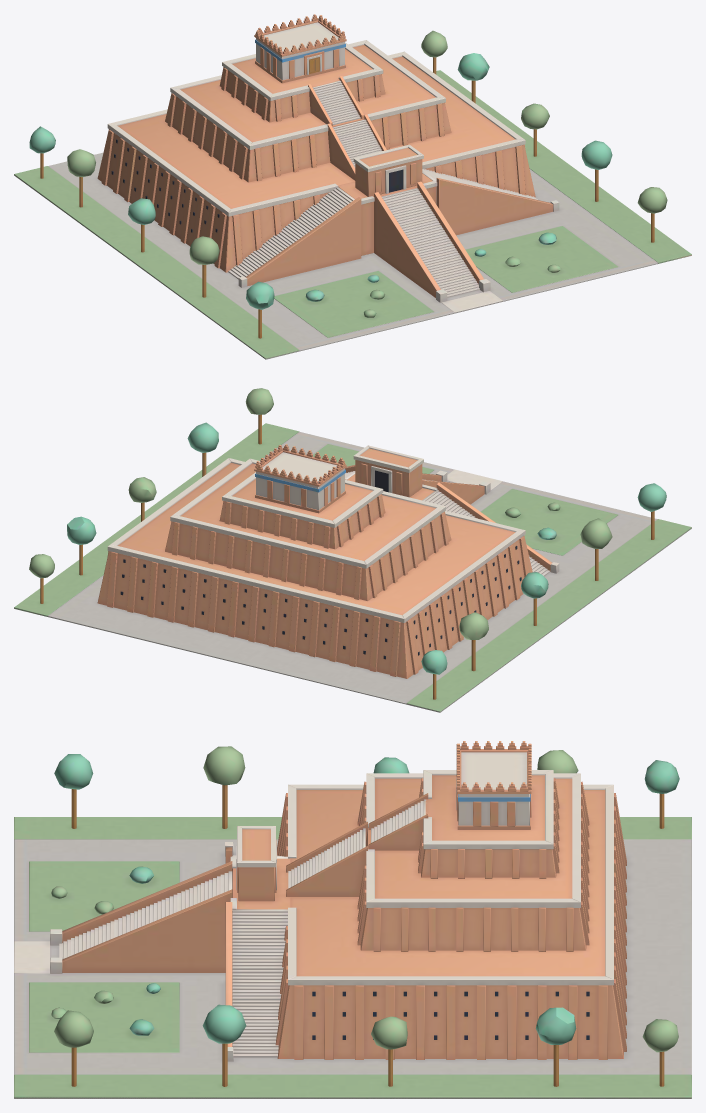
File: ziggurat.glb
3 renders of one model, top to bottom at view 1: azimuth 30°, elevation 25°; view 2: azimuth 150°, elevation 25°; view 3: azimuth 270°, elevation 25°, orthographic. The views are drawn at different scales.
Parts seen in each view (by area): view 1: ziggurat_body; view 2: ziggurat_body; view 3: ziggurat_body.
Boxes of the visible parts, x1=… form: ziggurat_body: x1=14, y1=14, x2=691, y2=359; ziggurat_body: x1=14, y1=388, x2=691, y2=712; ziggurat_body: x1=14, y1=741, x2=691, y2=1098.
Size of the model in its own units: 88 by 28.8 by 90.
Materials: 1 (1 with a texture image).
